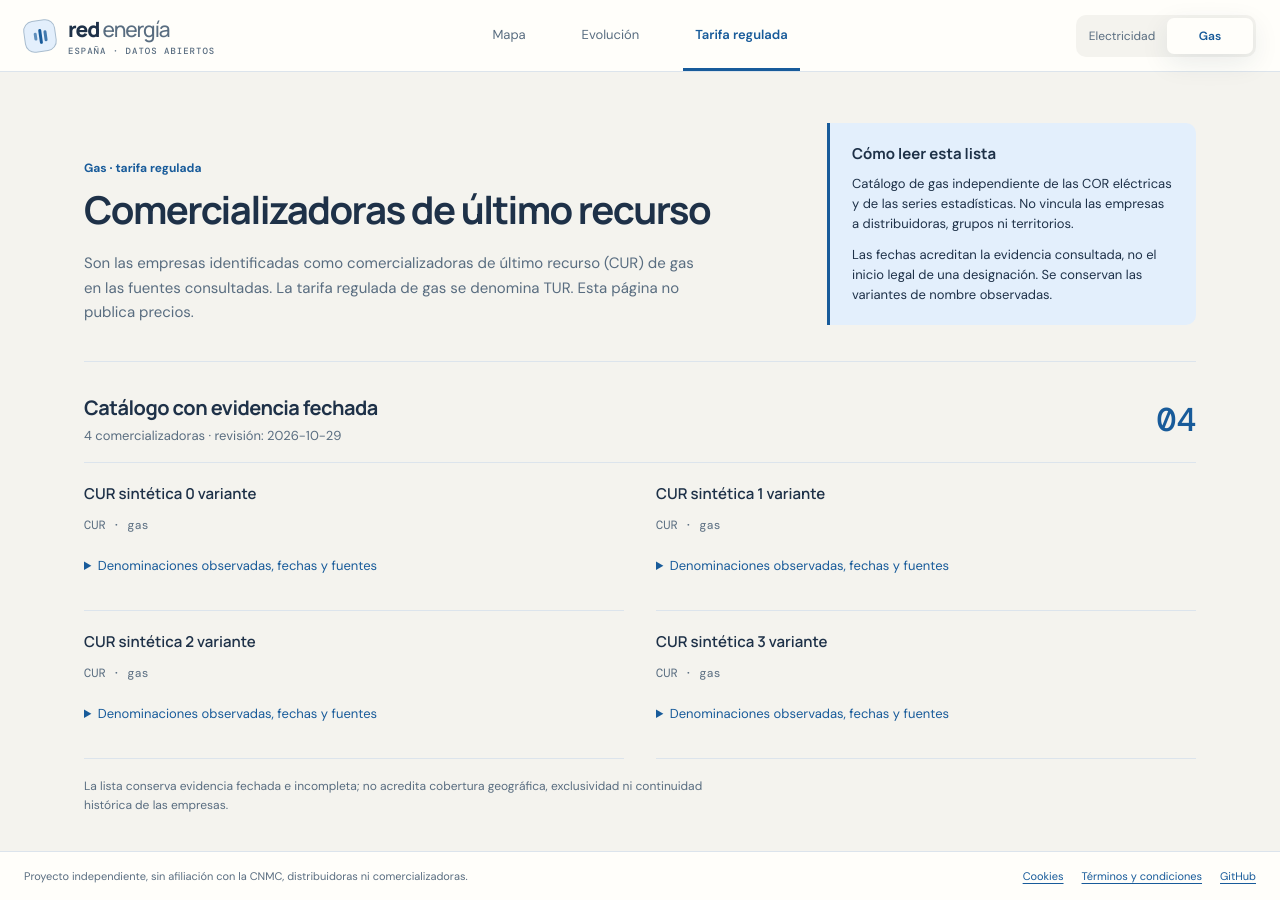
gas CUR catalogue › shows four independent entities, dated variants and source links without electricity codes or prices
Expected: the heading "Catálogo con evidencia fechada" is shown, x1=84 y1=394 x2=378 y2=421
Expected: the number of list items is 4, x1=84 y1=463 x2=624 y2=611; x1=656 y1=463 x2=1196 y2=611; x1=84 y1=611 x2=624 y2=759; x1=656 y1=611 x2=1196 y2=759
What coordinates should you click on to do the following:
click the heading "Denominaciones observadas, fechas y fuentes" below "CUR sintética 0 variante"
I would click on:
 (237, 565)
Its box is x1=98 y1=557 x2=377 y2=574.
(page scrolled)
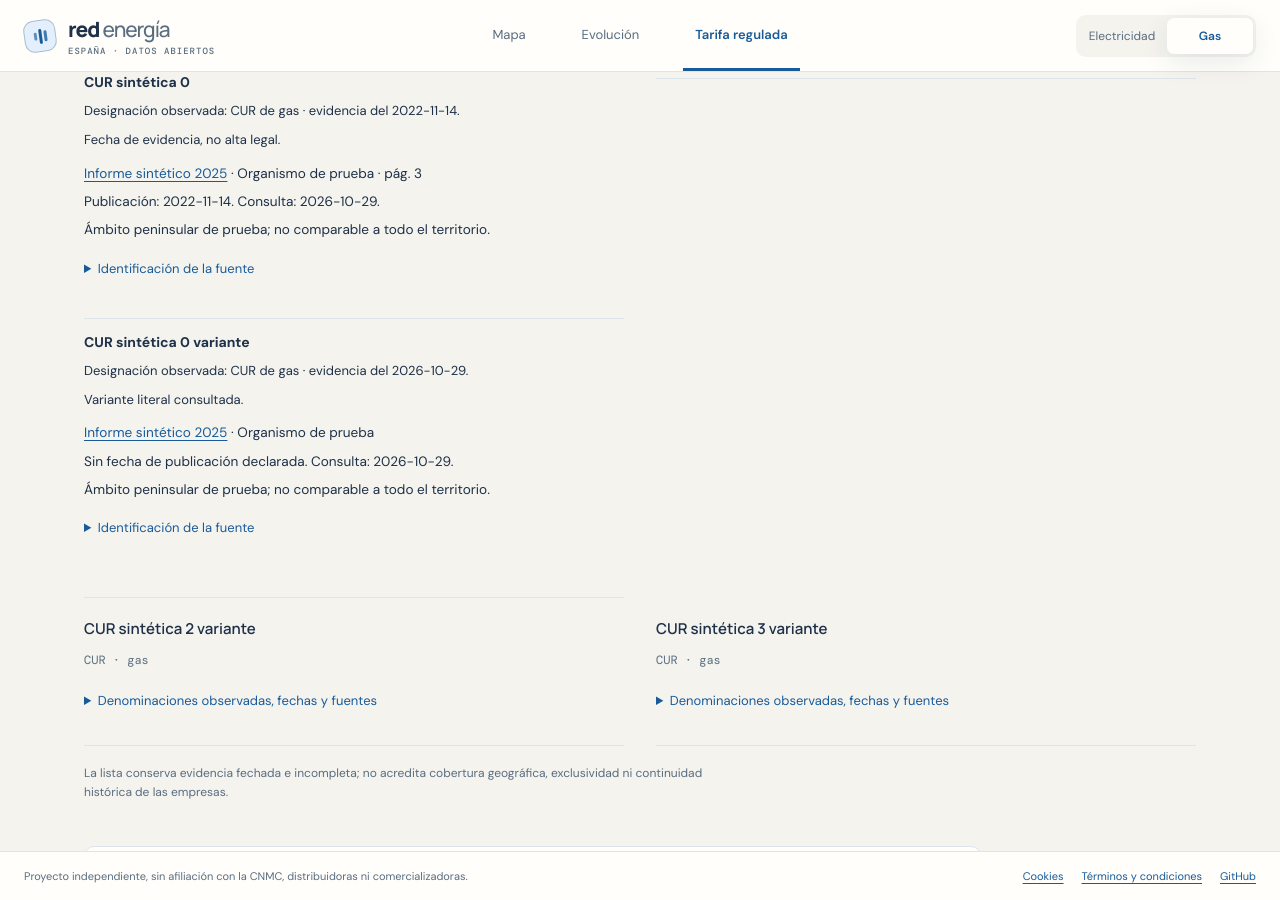
Expected: the heading "CUR sintética 0" is shown, x1=84 y1=73 x2=190 y2=91
Expected: the 1st text "2022-11-14" is shown, x1=392 y1=102 x2=457 y2=119
Expected: the text "Sin fecha de publicación declarada." is shown, x1=84 y1=453 x2=311 y2=470
